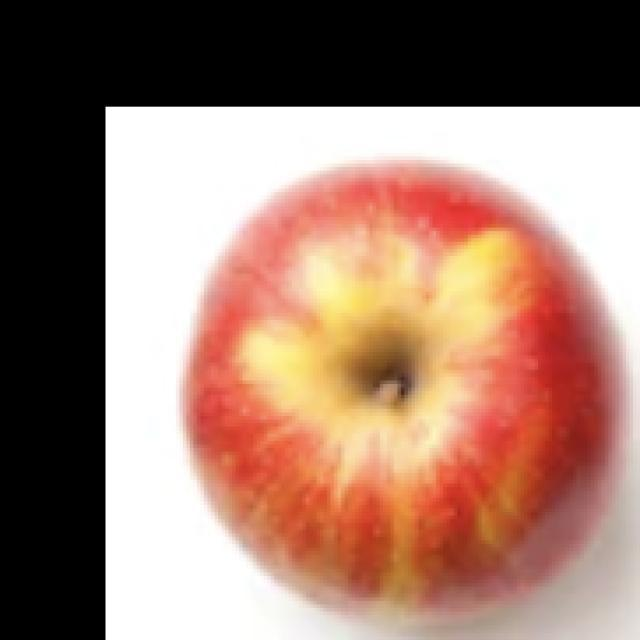Apple: (182, 156, 612, 622)
